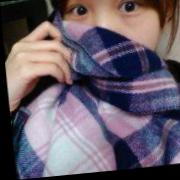WRONG: (63, 1, 164, 101)
